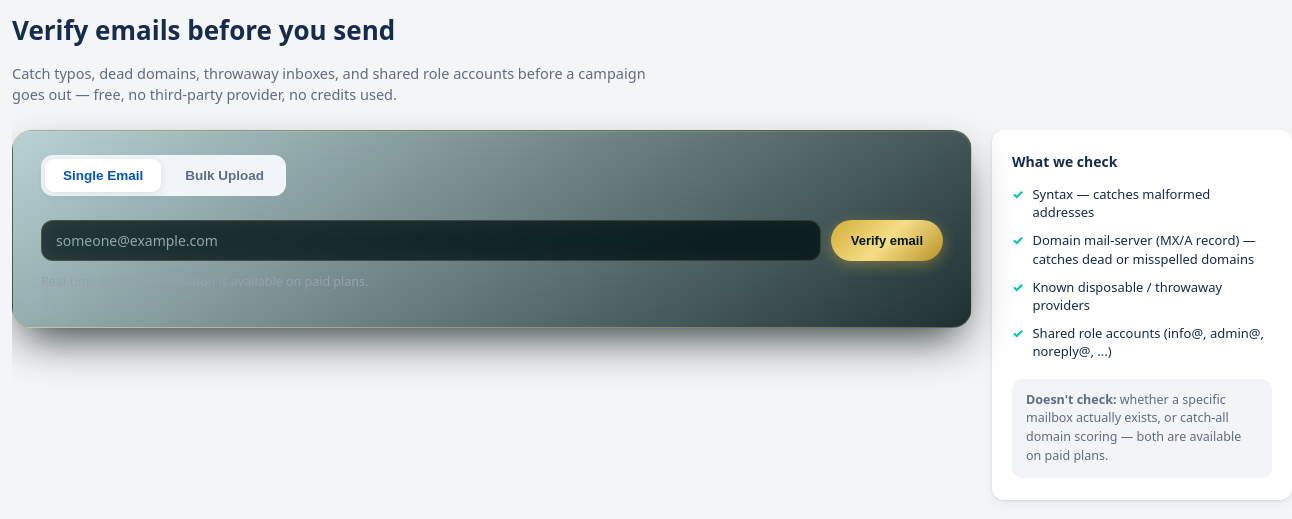
Test: VerifyEmailPage › checks a single email and shows the basic-check result
Type "test@mailinator.com" into the field named "Email".
click(431, 240); type("test@mailinator.com")  # box [41,220,821,261]
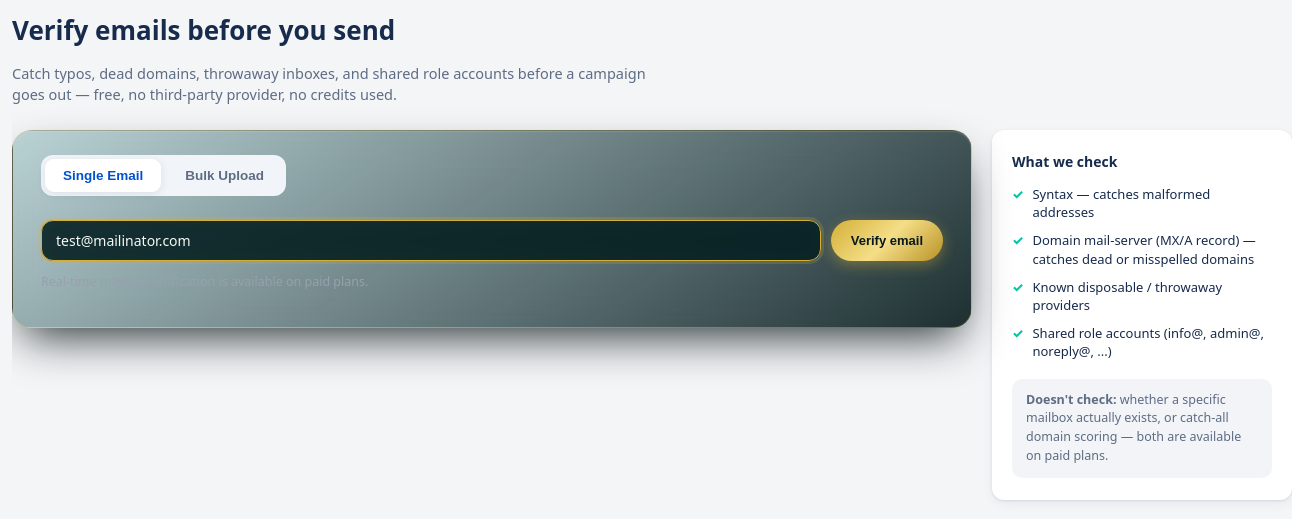
Click the button "Verify email".
click(887, 240)  # box [831,220,943,261]
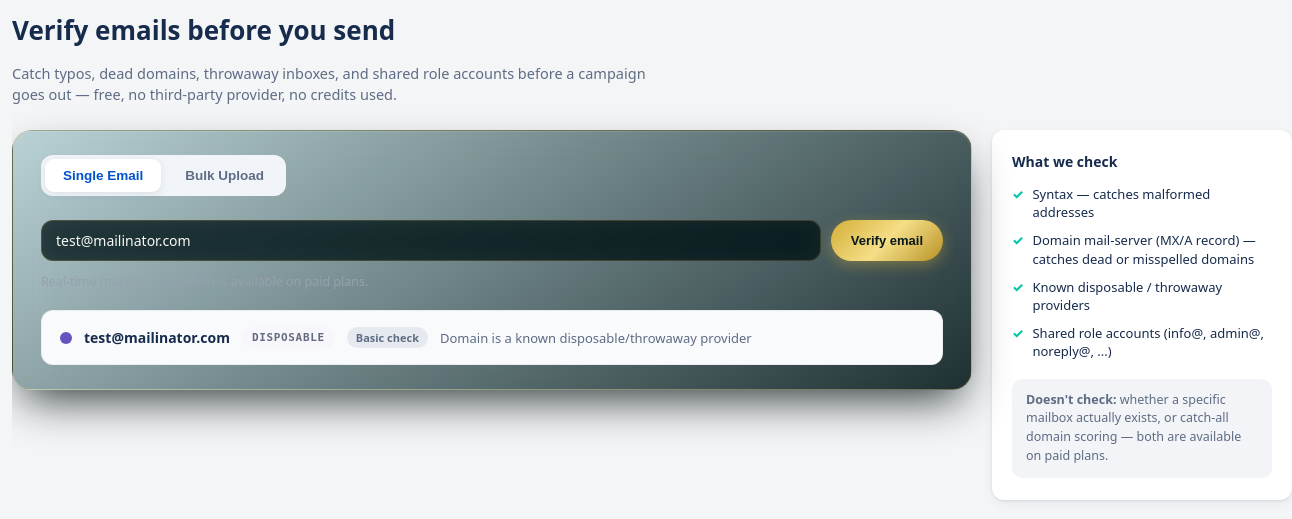
Result: the text "Disposable" is shown at [242,327,335,348]
Result: the text "Domain is a known disposable/throwaway provider" is shown at [440,328,752,346]
Result: the text "Basic check" is shown at [347,327,428,348]
